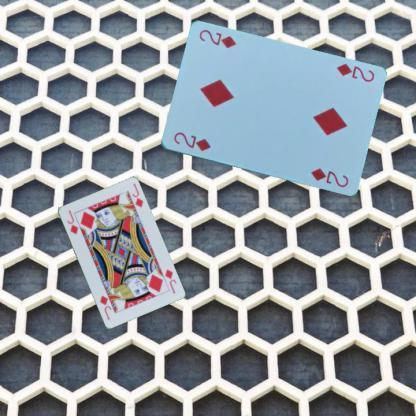2d: (170, 130, 212, 154), (334, 60, 376, 84)
Jd: (162, 266, 178, 295), (64, 207, 79, 236)
